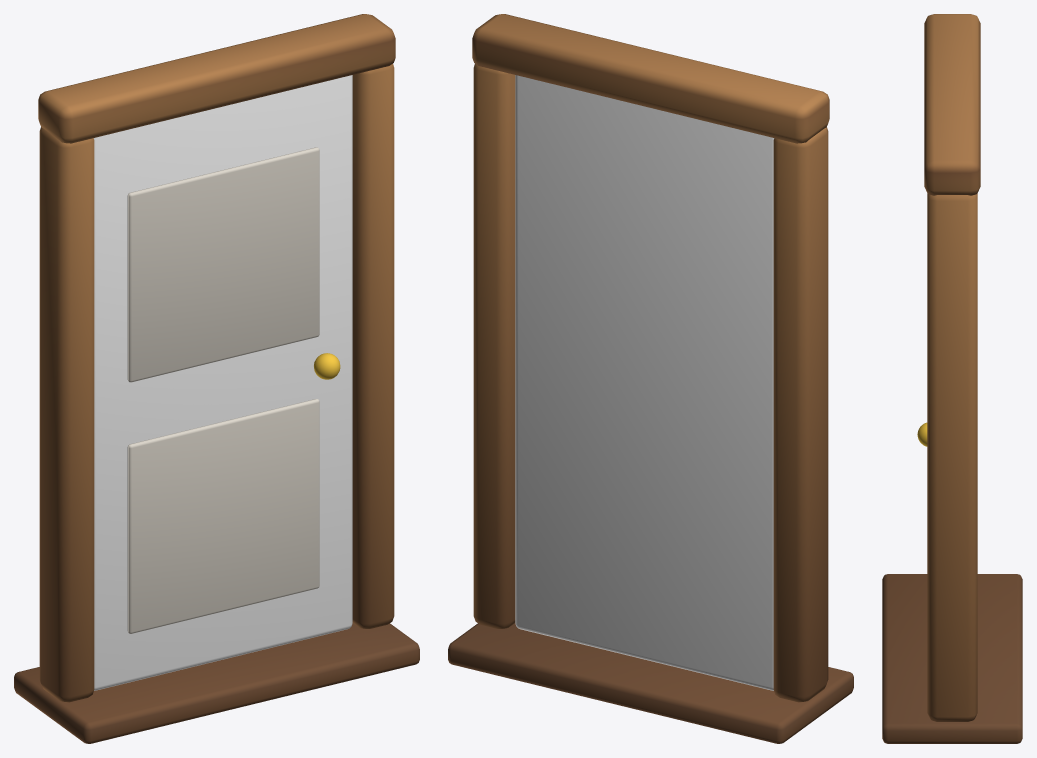
File: tuer.glb
The picture shows the model from 3 angles, left to right: view 1: azimuth 30°, elevation 25°; view 2: azimuth 150°, elevation 25°; view 3: azimuth 270°, elevation 25°; orthographic projection. The views are drawn at different scales.
Parts seen in each view (by area): view 1: tuer-matt, tuer-zustand; view 2: tuer-zustand, tuer-matt; view 3: tuer-matt.
Boxes of the visible parts, x1,y1,x2,y2 form: tuer-matt: (14, 14, 419, 743); tuer-zustand: (93, 75, 352, 690); tuer-zustand: (515, 75, 774, 690); tuer-matt: (448, 14, 853, 743); tuer-matt: (882, 14, 1022, 743).
Size of the model in its own units: 1.3 by 2.29 by 0.5.
